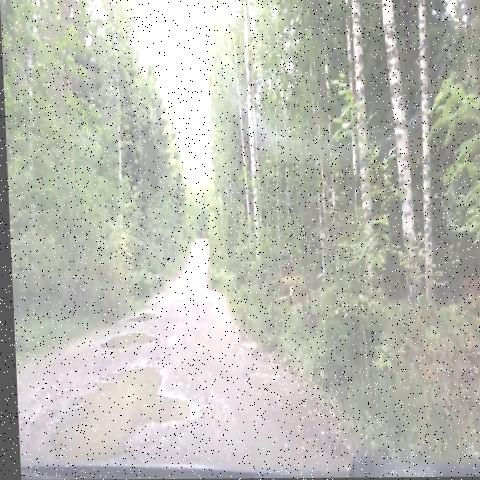pothole: (40, 342, 201, 469), (94, 315, 167, 362), (123, 300, 161, 333)
